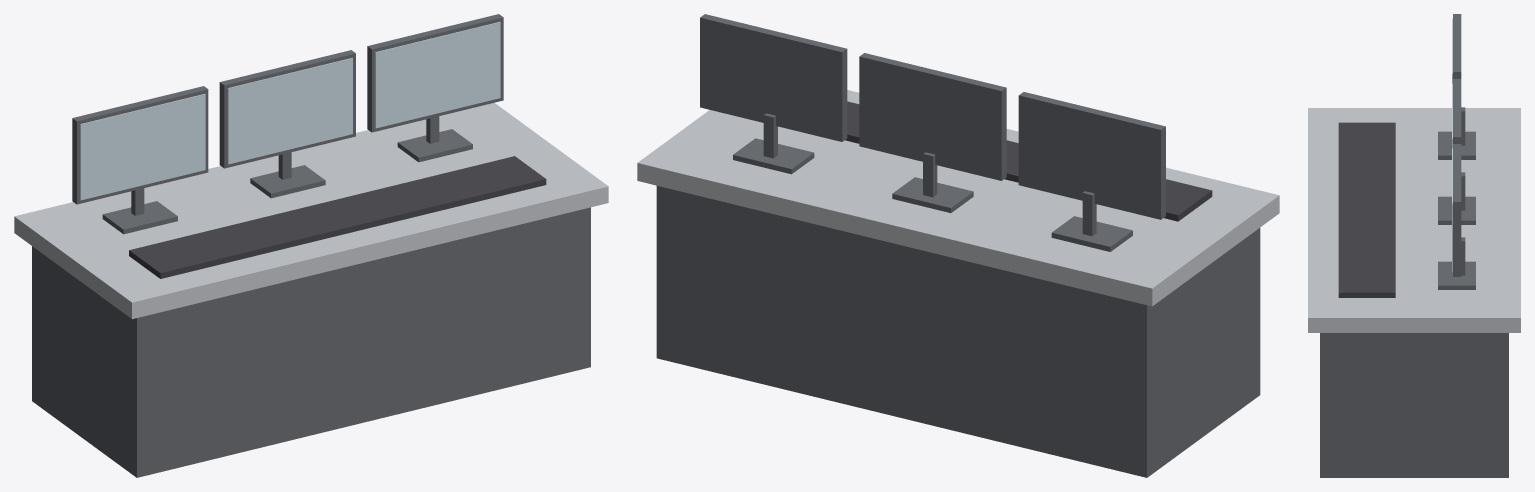
Rendered from bank-vault-heist-kit-control-room-console-68040bae__25108.glb.
The picture shows the model from 3 angles, left to right: view 1: azimuth 30°, elevation 25°; view 2: azimuth 150°, elevation 25°; view 3: azimuth 270°, elevation 25°; orthographic projection. The views are drawn at different scales.
Visible parts, largest first — view 1: control-room-console; view 2: control-room-console; view 3: control-room-console.
Part boxes in pixels (box(x1,y1,x2,y2)): control-room-console: box(14, 14, 608, 477); control-room-console: box(637, 14, 1279, 477); control-room-console: box(1308, 14, 1520, 477).
Size of the model in its own units: 2.1 by 1.26 by 0.8999.
